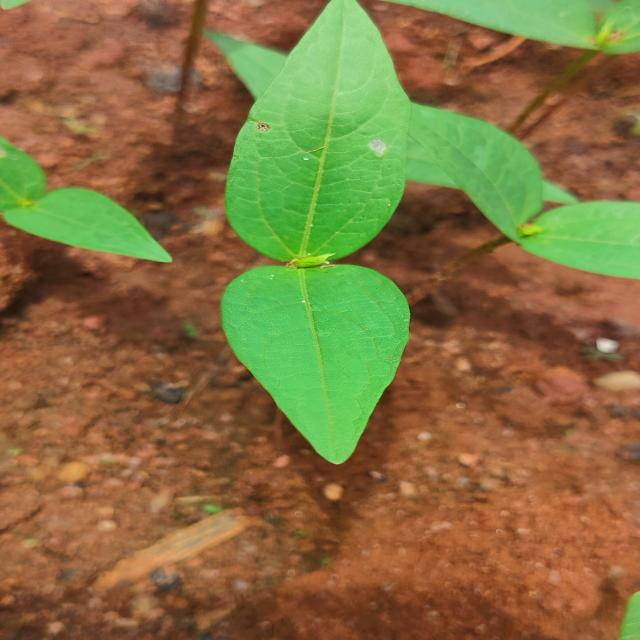Black gram_healthy: (230, 0, 411, 266), (227, 256, 406, 462), (404, 94, 552, 236), (1, 184, 179, 269), (519, 190, 640, 279)
